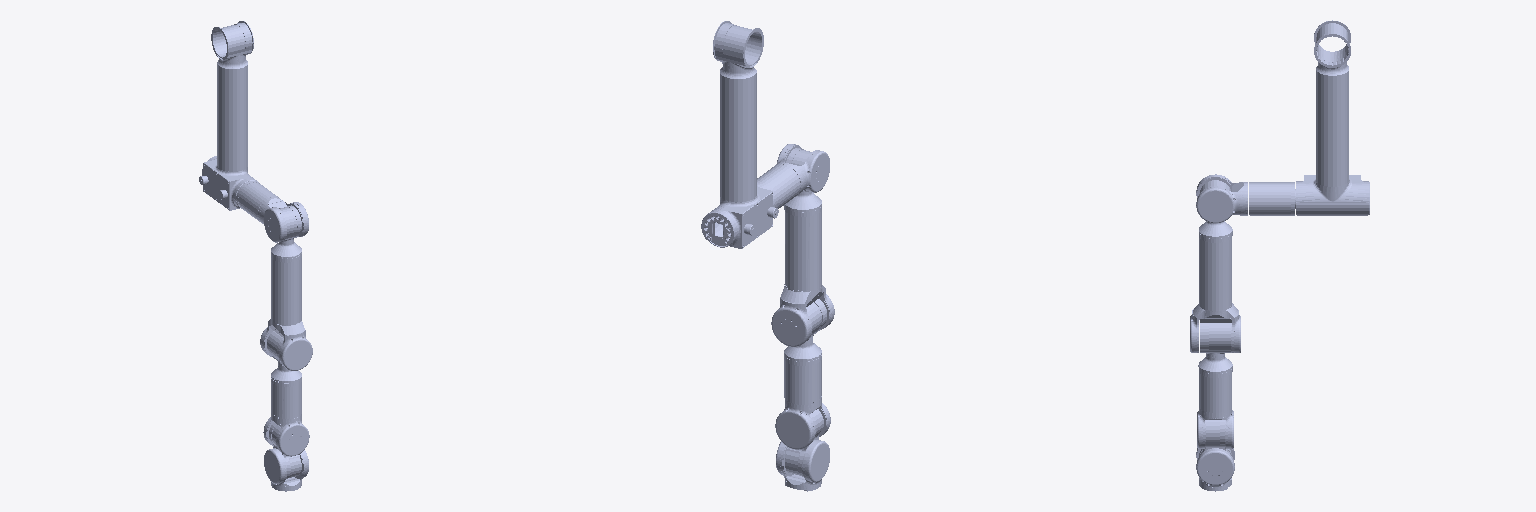
The robot description file, URDF, robot "mk2_arm":
<robot
  name="mk2_arm">
  <link
    name="torso_roll_link">
    <inertial>
      <origin
        xyz="-0.0050067 -6.7525E-08 -0.44116"
        rpy="0 0 0" />
      <mass
        value="0.29334" />
      <inertia
        ixx="0.0060644"
        ixy="1.7578E-08"
        ixz="0.00021929"
        iyy="0.0057853"
        iyz="-7.3171E-10"
        izz="0.0006773" />
    </inertial>
    <visual>
      <origin
        xyz="0 0 0"
        rpy="0 0 0" />
      <geometry>
        <mesh
          filename="package://hdt_common/meshes/torso_roll_link.STL" />
      </geometry>
      <material
        name="">
        <color
          rgba="0.79216 0.81961 0.93333 1" />
      </material>
    </visual>
    <collision>
      <origin
        xyz="0 0 0"
        rpy="0 0 0" />
      <geometry>
        <mesh
          filename="package://hdt_common/meshes/torso_roll_link.STL" />
      </geometry>
    </collision>
  </link>
  <link
    name="right_shoulder_pitch_link">
    <inertial>
      <origin
        xyz="-0.0012351 -0.11113 4.8396E-05"
        rpy="0 0 0" />
      <mass
        value="0.14015" />
      <inertia
        ixx="0.00052809"
        ixy="1.0634E-05"
        ixz="1.2129E-08"
        iyy="0.00016132"
        iyz="-1.7619E-07"
        izz="0.00054642" />
    </inertial>
    <visual>
      <origin
        xyz="0 0 0"
        rpy="0 0 0" />
      <geometry>
        <mesh
          filename="package://hdt_common/meshes/right_shoulder_pitch_link.STL" />
      </geometry>
      <material
        name="">
        <color
          rgba="0.79216 0.81961 0.93333 1" />
      </material>
    </visual>
    <collision>
      <origin
        xyz="0 0 0"
        rpy="0 0 0" />
      <geometry>
        <mesh
          filename="package://hdt_common/meshes/right_shoulder_pitch_link.STL" />
      </geometry>
    </collision>
  </link>
  <joint
    name="joint_1"
    type="revolute">
    <origin
      xyz="0 -0.0754 -0.57098"
      rpy="0 0 0" />
    <parent
      link="torso_roll_link" />
    <child
      link="right_shoulder_pitch_link" />
    <axis
      xyz="0 -1 0" />
    <limit effort="60" velocity="2.0" lower="-1.57" upper="1.57" />
  </joint>
  <link
    name="right_shoulder_roll_link">
    <inertial>
      <origin
        xyz="0.0017823 0.00039333 -0.042835"
        rpy="0 0 0" />
      <mass
        value="0.063501" />
      <inertia
        ixx="9.4976E-05"
        ixy="-4.4859E-08"
        ixz="5.633E-06"
        iyy="9.2293E-05"
        iyz="-7.9997E-07"
        izz="4.6467E-05" />
    </inertial>
    <visual>
      <origin
        xyz="0 0 0"
        rpy="0 0 0" />
      <geometry>
        <mesh
          filename="package://hdt_common/meshes/right_shoulder_roll_link.STL" />
      </geometry>
      <material
        name="">
        <color
          rgba="0.79216 0.81961 0.93333 1" />
      </material>
    </visual>
    <collision>
      <origin
        xyz="0 0 0"
        rpy="0 0 0" />
      <geometry>
        <mesh
          filename="package://hdt_common/meshes/right_shoulder_roll_link.STL" />
      </geometry>
    </collision>
  </link>
  <joint
    name="joint_2"
    type="revolute">
    <origin
      xyz="0 -0.17412 0"
      rpy="0 0 0" />
    <parent
      link="right_shoulder_pitch_link" />
    <child
      link="right_shoulder_roll_link" />
    <axis
      xyz="-1 0 0" />
    <limit effort="60" velocity="2.0" lower="-1.57" upper="1.57" />
  </joint>
  <link
    name="right_shoulder_yaw_link">
    <inertial>
      <origin
        xyz="-1.6925E-06 0.0023886 -0.16677"
        rpy="0 0 0" />
      <mass
        value="0.23426" />
      <inertia
        ixx="0.0013959"
        ixy="7.3538E-10"
        ixz="-3.3068E-08"
        iyy="0.0012838"
        iyz="-4.3008E-05"
        izz="0.00033255" />
    </inertial>
    <visual>
      <origin
        xyz="0 0 0"
        rpy="0 0 0" />
      <geometry>
        <mesh
          filename="package://hdt_common/meshes/right_shoulder_yaw_link.STL" />
      </geometry>
      <material
        name="">
        <color
          rgba="0.79216 0.81961 0.93333 1" />
      </material>
    </visual>
    <collision>
      <origin
        xyz="0 0 0"
        rpy="0 0 0" />
      <geometry>
        <mesh
          filename="package://hdt_common/meshes/right_shoulder_yaw_link.STL" />
      </geometry>
    </collision>
  </link>
  <joint
    name="joint_3"
    type="revolute">
    <origin
      xyz="0 0 -0.07335"
      rpy="0 0 0" />
    <parent
      link="right_shoulder_roll_link" />
    <child
      link="right_shoulder_yaw_link" />
    <axis
      xyz="0 0 -1" />
    <limit effort="60" velocity="2.0" lower="-1.57" upper="1.57" />
  </joint>
  <link
    name="right_elbow_pitch_link">
    <inertial>
      <origin
        xyz="0.00036044 -0.0010577 -0.040895"
        rpy="0 0 0" />
      <mass
        value="0.068783" />
      <inertia
        ixx="0.00010632"
        ixy="2.6107E-08"
        ixz="-8.4427E-07"
        iyy="0.00010508"
        iyz="-2.7792E-06"
        izz="5.7614E-05" />
    </inertial>
    <visual>
      <origin
        xyz="0 0 0"
        rpy="0 0 0" />
      <geometry>
        <mesh
          filename="package://hdt_common/meshes/right_elbow_pitch_link.STL" />
      </geometry>
      <material
        name="">
        <color
          rgba="0.79216 0.81961 0.93333 1" />
      </material>
    </visual>
    <collision>
      <origin
        xyz="0 0 0"
        rpy="0 0 0" />
      <geometry>
        <mesh
          filename="package://hdt_common/meshes/right_elbow_pitch_link.STL" />
      </geometry>
    </collision>
  </link>
  <joint
    name="joint_4"
    type="revolute">
    <origin
      xyz="0 0 -0.24463"
      rpy="0 0 0" />
    <parent
      link="right_shoulder_yaw_link" />
    <child
      link="right_elbow_pitch_link" />
    <axis
      xyz="0 -1 0" />
    <limit effort="60" velocity="2.0" lower="0" upper="3.14" />
  </joint>
  <link
    name="right_wrist_roll_link">
    <inertial>
      <origin
        xyz="6.8382E-05 -0.0012416 -0.098444"
        rpy="0 0 0" />
      <mass
        value="0.14324" />
      <inertia
        ixx="0.00040743"
        ixy="1.2066E-08"
        ixz="-1.8263E-07"
        iyy="0.00039008"
        iyz="8.7939E-06"
        izz="0.0001567" />
    </inertial>
    <visual>
      <origin
        xyz="0 0 0"
        rpy="0 0 0" />
      <geometry>
        <mesh
          filename="package://hdt_common/meshes/right_wrist_roll_link.STL" />
      </geometry>
      <material
        name="">
        <color
          rgba="0.79216 0.81961 0.93333 1" />
      </material>
    </visual>
    <collision>
      <origin
        xyz="0 0 0"
        rpy="0 0 0" />
      <geometry>
        <mesh
          filename="package://hdt_common/meshes/right_wrist_roll_link.STL" />
      </geometry>
    </collision>
  </link>
  <joint
    name="joint_5"
    type="revolute">
    <origin
      xyz="0 0 -0.07335"
      rpy="0 0 0" />
    <parent
      link="right_elbow_pitch_link" />
    <child
      link="right_wrist_roll_link" />
    <axis
      xyz="0 0 -1" />
    <limit effort="60" velocity="2.0" lower="-1.57" upper="1.57" />
  </joint>
  <link
    name="right_wrist_pitch_link">
    <inertial>
      <origin
        xyz="-0.00040894 0.00040894 -0.03705"
        rpy="0 0 0" />
      <mass
        value="0.043905" />
      <inertia
        ixx="7.6751E-05"
        ixy="7.3425E-09"
        ixz="1.0127E-06"
        iyy="7.6751E-05"
        iyz="1.0127E-06"
        izz="3.2205E-05" />
    </inertial>
    <visual>
      <origin
        xyz="0 0 0"
        rpy="0 0 0" />
      <geometry>
        <mesh
          filename="package://hdt_common/meshes/right_wrist_pitch_link.STL" />
      </geometry>
      <material
        name="">
        <color
          rgba="0.79216 0.81961 0.93333 1" />
      </material>
    </visual>
    <collision>
      <origin
        xyz="0 0 0"
        rpy="0 0 0" />
      <geometry>
        <mesh
          filename="package://hdt_common/meshes/right_wrist_pitch_link.STL" />
      </geometry>
    </collision>
  </link>
  <joint
    name="joint_6"
    type="revolute">
    <origin
      xyz="0 0 -0.1511"
      rpy="0 0 0" />
    <parent
      link="right_wrist_roll_link" />
    <child
      link="right_wrist_pitch_link" />
    <axis
      xyz="0 -1 0" />
    <limit effort="60" velocity="2.0" lower="-1.57" upper="1.57" />
  </joint>
  <link
    name="right_wrist_yaw_joint">
    <inertial>
      <origin
        xyz="0.0021501 -0.00061794 -0.021968"
        rpy="0 0 0" />
      <mass
        value="0.082562" />
      <inertia
        ixx="0.00010826"
        ixy="1.0963E-07"
        ixz="3.3688E-06"
        iyy="0.00012543"
        iyz="1.584E-06"
        izz="9.5465E-05" />
    </inertial>
    <visual>
      <origin
        xyz="0 0 0"
        rpy="0 0 0" />
      <geometry>
        <mesh
          filename="package://hdt_common/meshes/right_wrist_yaw_joint.STL" />
      </geometry>
      <material
        name="">
        <color
          rgba="0.79216 0.81961 0.93333 1" />
      </material>
    </visual>
    <collision>
      <origin
        xyz="0 0 0"
        rpy="0 0 0" />
      <geometry>
        <mesh
          filename="package://hdt_common/meshes/right_wrist_yaw_joint.STL" />
      </geometry>
    </collision>
  </link>
  <joint
    name="joint_7"
    type="revolute">
    <origin
      xyz="0 0 -0.0741"
      rpy="0 0 0" />
    <parent
      link="right_wrist_pitch_link" />
    <child
      link="right_wrist_yaw_joint" />
    <axis
      xyz="-1 0 0" />
    <limit effort="60" velocity="2.0" lower="-1.57" upper="1.57" />
  </joint>
</robot>

--- Render facts (derived) ---
Views: 3 orthographic renders of the robot side by side, from view 1: azimuth 30°, elevation 25°; view 2: azimuth 150°, elevation 25°; view 3: azimuth 270°, elevation 25°.
Model mk2_arm with 8 links and 7 joints (7 revolute), rooted at torso_roll_link, posed every joint at zero.
Links seen in each view (by area): view 1: torso_roll_link, right_shoulder_yaw_link, right_wrist_roll_link, right_shoulder_pitch_link, right_wrist_yaw_joint, right_shoulder_roll_link, right_elbow_pitch_link, right_wrist_pitch_link; view 2: torso_roll_link, right_shoulder_yaw_link, right_wrist_roll_link, right_shoulder_pitch_link, right_wrist_yaw_joint, right_elbow_pitch_link, right_shoulder_roll_link, right_wrist_pitch_link; view 3: torso_roll_link, right_shoulder_yaw_link, right_shoulder_pitch_link, right_wrist_roll_link, right_elbow_pitch_link, right_wrist_yaw_joint, right_shoulder_roll_link, right_wrist_pitch_link.
Link boxes in pixels (x1,y1,x2,y2): torso_roll_link: [199, 21, 257, 210]; right_shoulder_yaw_link: [260, 254, 312, 370]; right_wrist_roll_link: [263, 378, 309, 456]; right_shoulder_pitch_link: [236, 181, 308, 242]; right_wrist_yaw_joint: [264, 448, 308, 491]; right_shoulder_roll_link: [271, 203, 303, 258]; right_elbow_pitch_link: [264, 330, 301, 382]; right_wrist_pitch_link: [267, 421, 302, 478]; torso_roll_link: [701, 21, 778, 248]; right_shoulder_yaw_link: [771, 206, 834, 346]; right_wrist_roll_link: [775, 355, 830, 449]; right_shoulder_pitch_link: [757, 144, 829, 208]; right_wrist_yaw_joint: [776, 440, 829, 491]; right_elbow_pitch_link: [784, 297, 829, 361]; right_shoulder_roll_link: [784, 146, 821, 211]; right_wrist_pitch_link: [783, 408, 826, 476]; torso_roll_link: [1295, 20, 1369, 215]; right_shoulder_yaw_link: [1190, 233, 1240, 352]; right_shoulder_pitch_link: [1196, 174, 1294, 222]; right_wrist_roll_link: [1197, 368, 1233, 448]; right_elbow_pitch_link: [1198, 323, 1232, 373]; right_wrist_yaw_joint: [1196, 448, 1234, 491]; right_shoulder_roll_link: [1197, 178, 1232, 238]; right_wrist_pitch_link: [1197, 420, 1233, 459].
Bounding box of the posed robot: 0.1003 × 0.3831 × 1.08 m (x, y, z).
8 mesh visuals loaded from 8 distinct referenced files (8 binary STL).